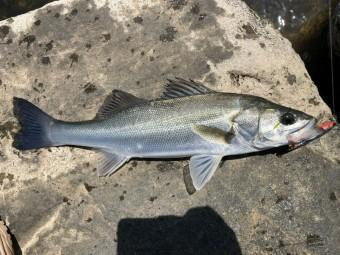fish: (14, 78, 320, 192)
